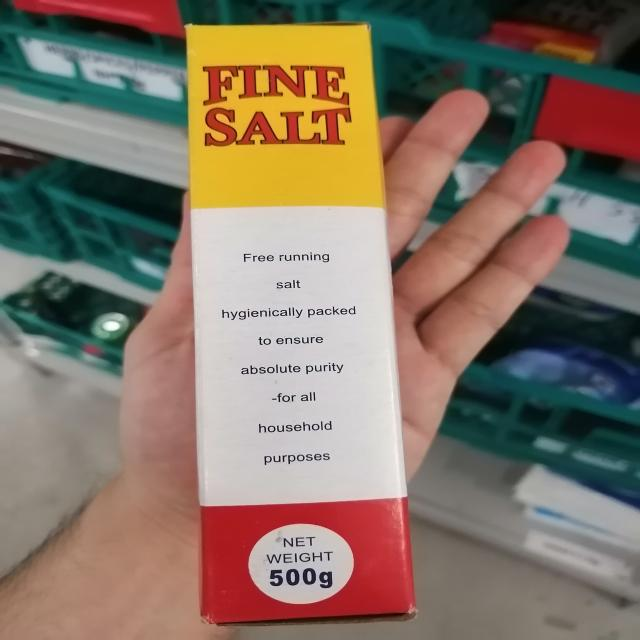object_name: (183, 24, 415, 609)
